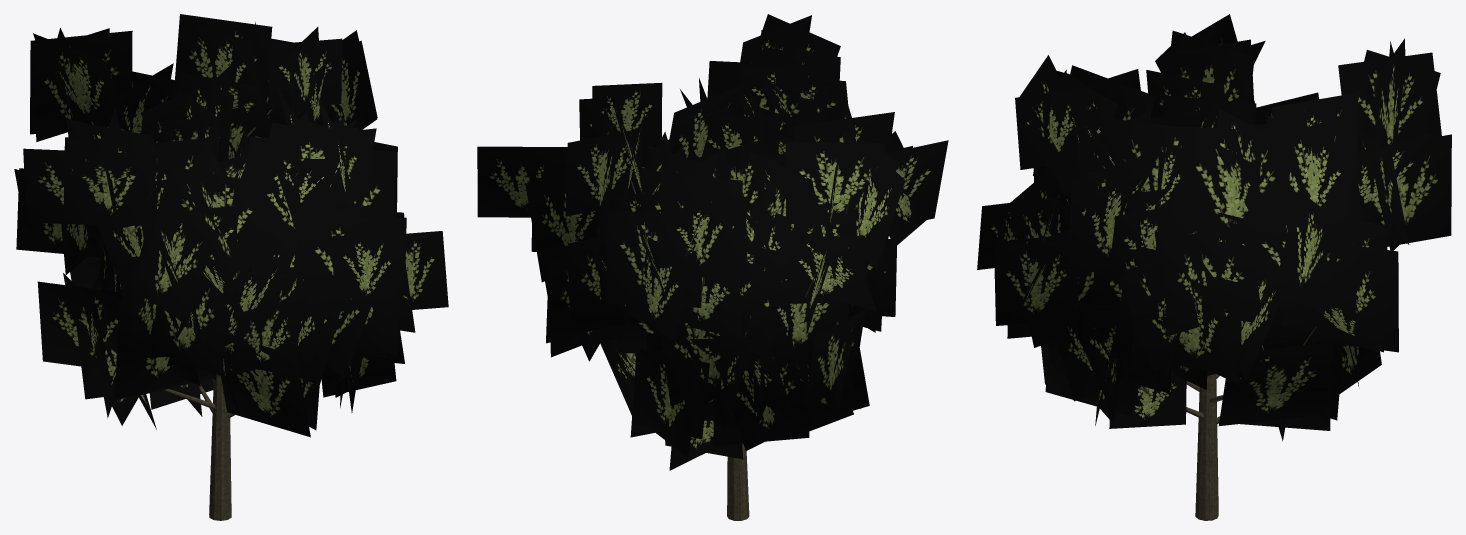
The model's file is tree-broad.glb.
The picture shows the model from 3 angles, left to right: view 1: azimuth 30°, elevation 25°; view 2: azimuth 150°, elevation 25°; view 3: azimuth 270°, elevation 25°; orthographic projection. The views are drawn at different scales.
Visible parts, largest first — view 1: tree-broad / Leaf cluster cutout, tree-broad / Ridged bark; view 2: tree-broad / Leaf cluster cutout, tree-broad / Ridged bark; view 3: tree-broad / Leaf cluster cutout, tree-broad / Ridged bark.
Boxes of the visible parts, <box> form: tree-broad / Leaf cluster cutout: <box>14,14,448,437</box>; tree-broad / Ridged bark: <box>91,109,272,520</box>; tree-broad / Leaf cluster cutout: <box>477,14,948,470</box>; tree-broad / Ridged bark: <box>625,180,851,520</box>; tree-broad / Leaf cluster cutout: <box>977,14,1451,441</box>; tree-broad / Ridged bark: <box>1139,243,1316,520</box>.
Size of the model in its own units: 9.49 by 10.11 by 9.62.
2 materials, 2 textured.
